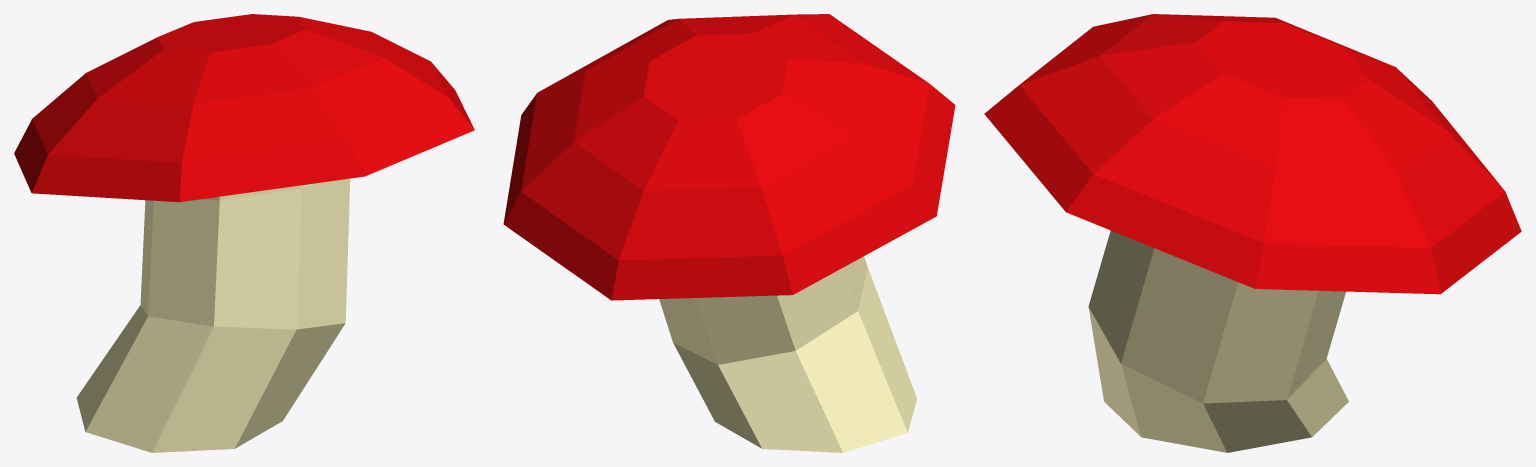
The model's file is Lowpoly_Mushroom_Red_02.fbx.
3 views of the same model, side by side, from view 1: azimuth 30°, elevation 25°; view 2: azimuth 150°, elevation 25°; view 3: azimuth 270°, elevation 25° (orthographic). The views are drawn at different scales.
Visible parts, largest first — view 1: Cube.002; view 2: Cube.002; view 3: Cube.002.
Part boxes in pixels (<box>): Cube.002: <box>14,14,474,452</box>; Cube.002: <box>503,14,955,452</box>; Cube.002: <box>984,14,1521,452</box>.
Size of the model in its own units: 386 by 309 by 375.
